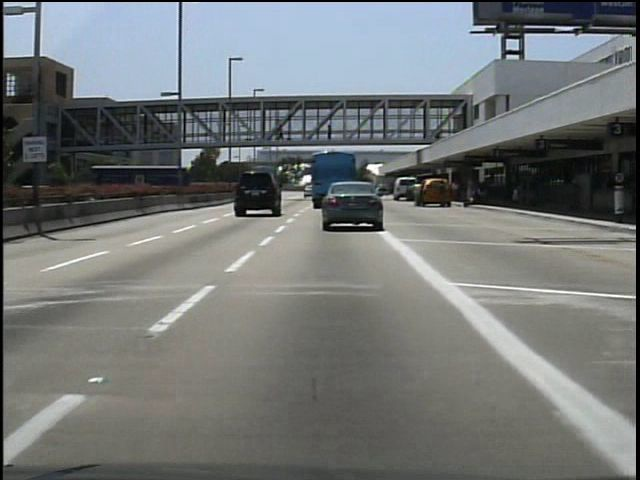person: (434, 176, 451, 211), (407, 179, 426, 209), (324, 121, 337, 147), (275, 119, 290, 141)
